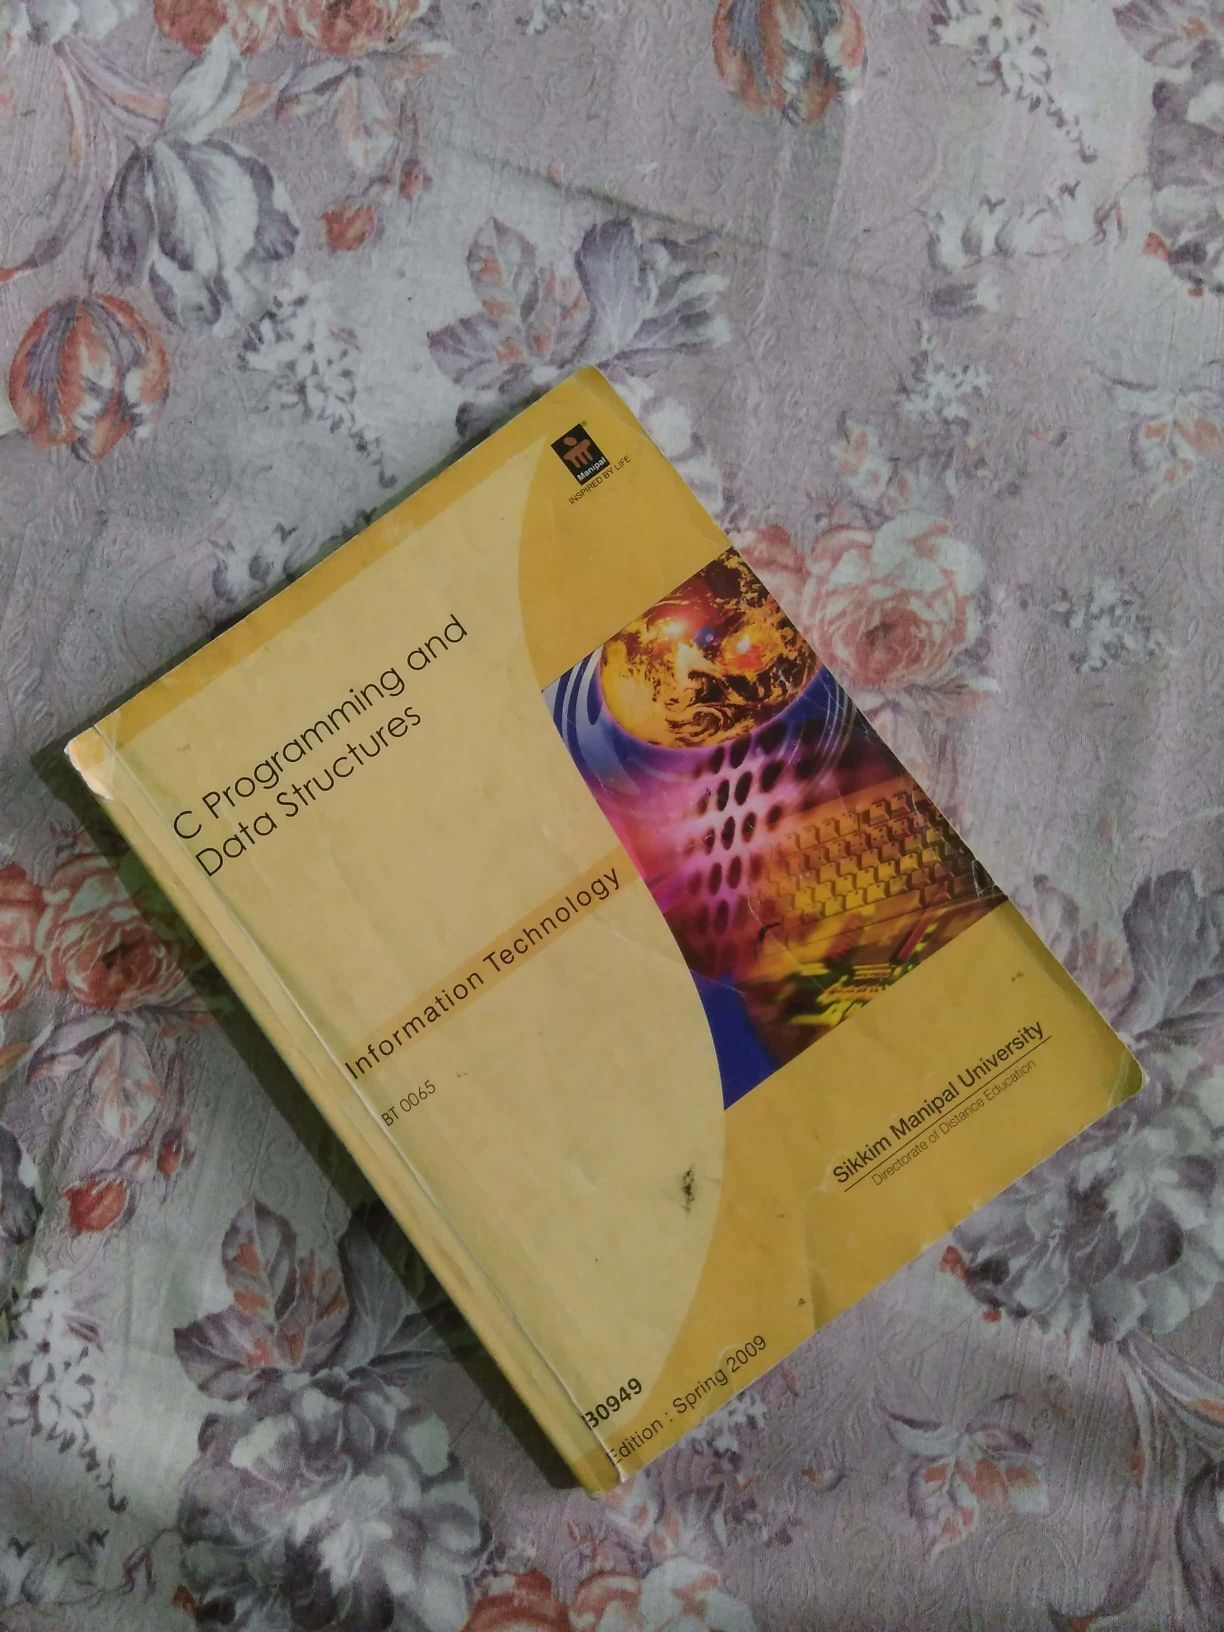clang: (44, 412, 1081, 1424)
